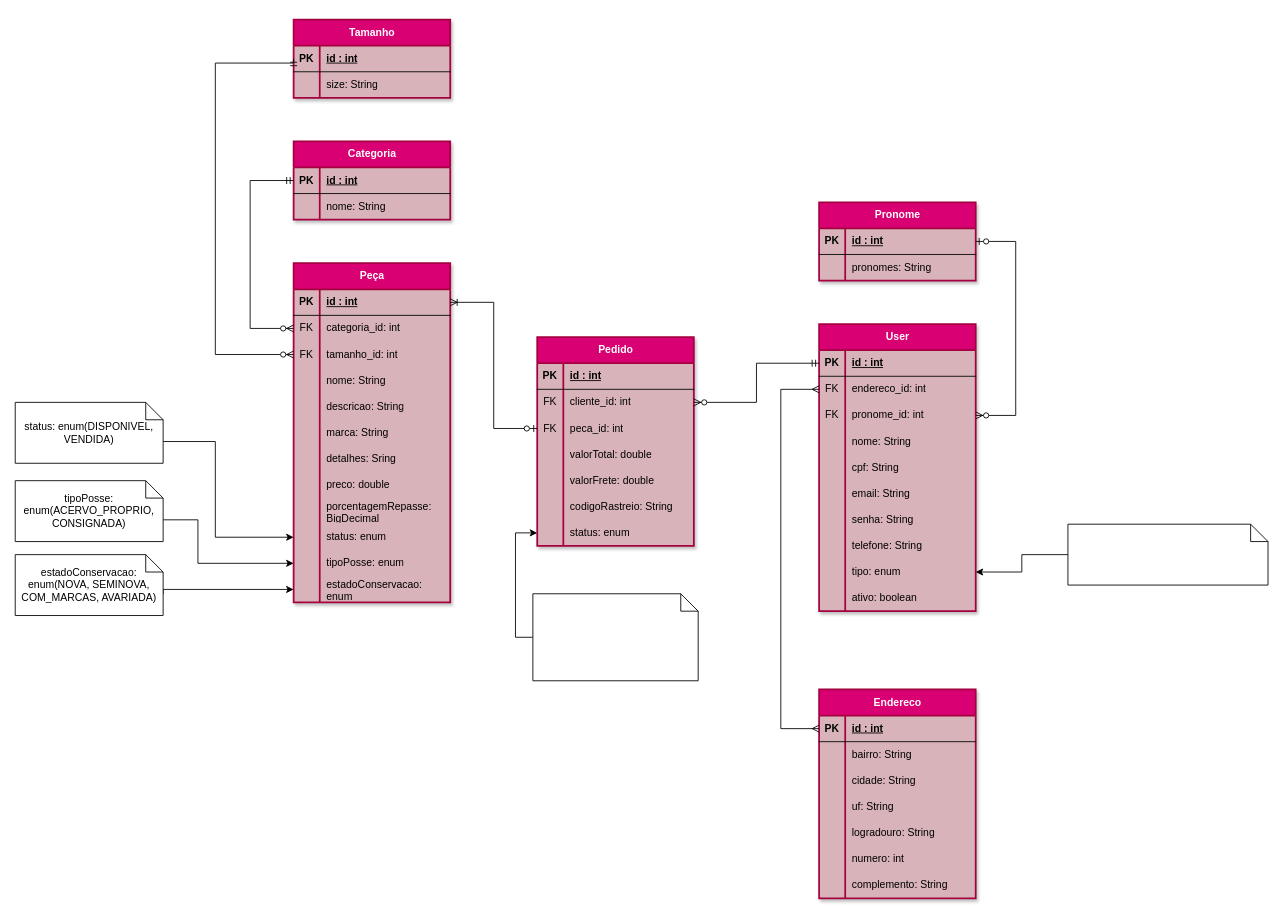
This 1283x920 diagram has some shape labels left out. The shapes that lost their labels are listed below. From the top down, each one's centre as x and y in pixels, then its label:
At (x=1167, y=554): "tipo: enum(CLIENTE,FORNECEDOR,AMBOS)".
At (x=615, y=637): "status:enum(ABERTO, AGUARDANDO_PAGAMENTO, PAGO, ENVIADO".
